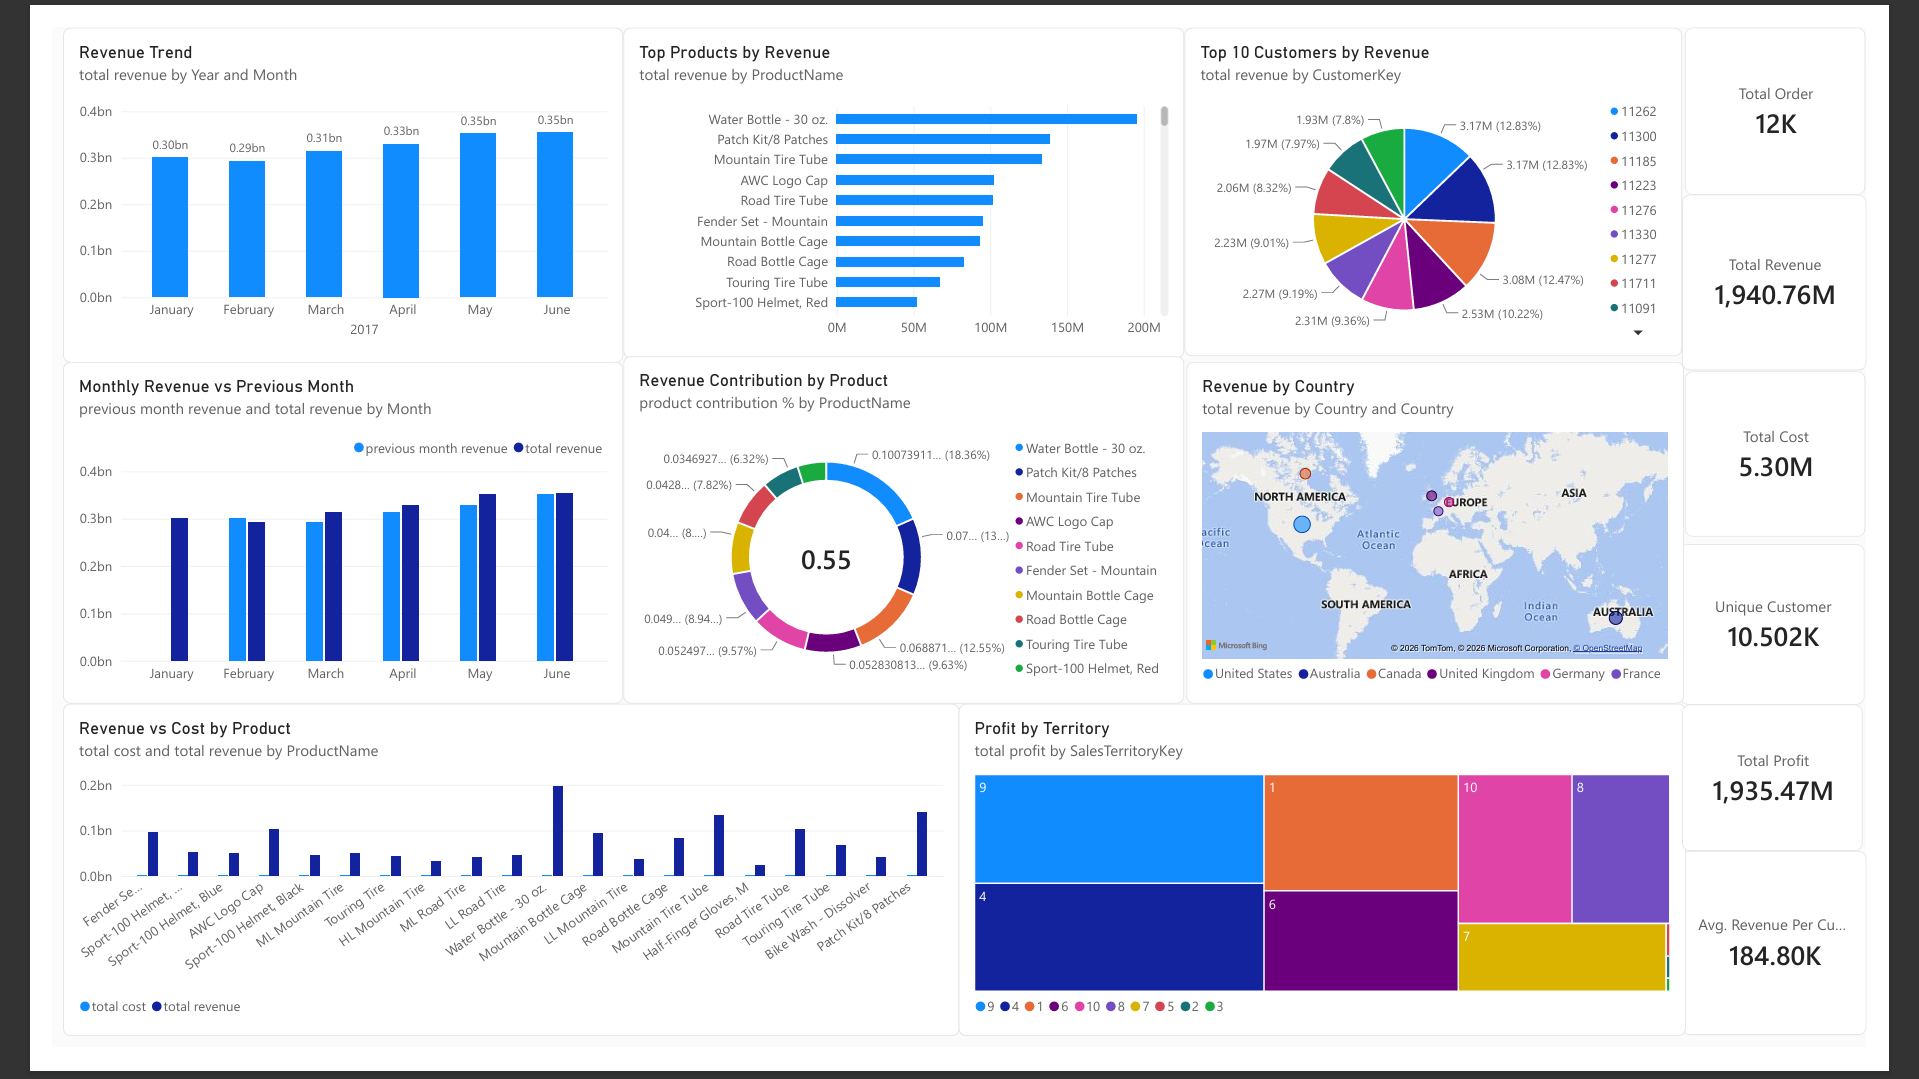

The page's visual inventory and layout, read from the dashboard file:
{"tool":"powerbi","page":{"name":"Sales Performance Dashboard","canvas":[1920,1080],"ordinal":0},"visuals":[{"type":"columnChart","title":"Revenue Trend","fields":{"Y":["AdventureWorks_Sales_2017.total revenue"],"Category":["AdventureWorks_Calendar.Date.Variation.Date Hierarchy.Year","AdventureWorks_Calendar.Date.Variation.Date Hierarchy.Month"]},"box":[10.9,0,593.6,354.7],"z":0},{"type":"lineClusteredColumnComboChart","title":"Monthly Revenue vs Previous Month","fields":{"Category":["AdventureWorks_Calendar.Date.Variation.Date Hierarchy.Month"],"Y":["AdventureWorks_Sales_2017.previous month revenue","AdventureWorks_Sales_2017.total revenue"]},"box":[10.6,354,593.5,362.5],"z":1000},{"type":"clusteredBarChart","title":"Top Products by Revenue","fields":{"Category":["AdventureWorks_Products.ProductName"],"Y":["AdventureWorks_Sales_2017.total revenue"]},"box":[604.1,0,594,350],"z":2000},{"type":"donutChart","title":"Revenue Contribution by Product","fields":{"Y":["AdventureWorks_Sales_2017.product contribution %"],"Category":["AdventureWorks_Products.ProductName"]},"box":[604.1,347.6,593.5,368.8],"z":3000},{"type":"lineClusteredColumnComboChart","title":"Revenue vs Cost by Product","fields":{"Category":["AdventureWorks_Products.ProductName"],"Y":["AdventureWorks_Sales_2017.total cost","AdventureWorks_Sales_2017.total revenue"]},"box":[10.6,716.5,949.6,351.9],"z":4000},{"type":"cardVisual","fields":{"Data":["AdventureWorks_Sales_2017.customer count"]},"box":[1722.8,546.5,195.4,170.1],"z":5000},{"type":"cardVisual","fields":{"Data":["AdventureWorks_Sales_2017.avg customer revenue"]},"box":[1724.6,872.3,195.4,195.4],"z":6000},{"type":"pieChart","title":"Top 10 Customers by Revenue","fields":{"Category":["AdventureWorks_Sales_2017.CustomerKey"],"Y":["AdventureWorks_Sales_2017.total revenue"]},"box":[1197.6,0,527.8,347.6],"z":7000},{"type":"map","title":"Revenue by Country","fields":{"Size":["AdventureWorks_Sales_2017.total revenue"],"Category":["AdventureWorks_Territories.Country"],"Series":["AdventureWorks_Territories.Country"]},"box":[1200,354,526.9,362.3],"z":8000},{"type":"treemap","title":"Profit by Territory","fields":{"Group":["AdventureWorks_Territories.SalesTerritoryKey"],"Values":["AdventureWorks_Sales_2017.total profit"]},"box":[959.2,716.3,769.8,352],"z":9000},{"type":"cardVisual","fields":{"Data":["AdventureWorks_Sales_2017.total profit"]},"box":[1724.6,716.6,191.8,155.6],"z":10000},{"type":"cardVisual","fields":{"Data":["AdventureWorks_Sales_2017.total order"]},"box":[1728.2,0,191.8,177.3],"z":11000},{"type":"cardVisual","fields":{"Data":["AdventureWorks_Sales_2017.total revenue"]},"box":[1724.6,177.3,195.4,186.4],"z":12000},{"type":"cardVisual","fields":{"Data":["AdventureWorks_Sales_2017.total cost"]},"box":[1728.2,363.7,191.8,175.5],"z":13000}]}

Visuals, with their boxes in screenshot pixels (x1, y1, x2, y2), scaled from the page's 1920x1080 canvas onto the 1919x1079 screenshot:
"Revenue Trend" columnChart: x1=11 y1=0 x2=604 y2=354
"Monthly Revenue vs Previous Month" lineClusteredColumnComboChart: x1=11 y1=354 x2=604 y2=716
"Top Products by Revenue" clusteredBarChart: x1=604 y1=0 x2=1197 y2=350
"Revenue Contribution by Product" donutChart: x1=604 y1=347 x2=1197 y2=716
"Revenue vs Cost by Product" lineClusteredColumnComboChart: x1=11 y1=716 x2=960 y2=1067
cardVisual - AdventureWorks_Sales_2017.customer count: x1=1722 y1=546 x2=1917 y2=716
cardVisual - AdventureWorks_Sales_2017.avg customer revenue: x1=1724 y1=871 x2=1918 y2=1067
"Top 10 Customers by Revenue" pieChart: x1=1197 y1=0 x2=1725 y2=347
"Revenue by Country" map: x1=1199 y1=354 x2=1726 y2=716
"Profit by Territory" treemap: x1=959 y1=716 x2=1728 y2=1067
cardVisual - AdventureWorks_Sales_2017.total profit: x1=1724 y1=716 x2=1915 y2=871
cardVisual - AdventureWorks_Sales_2017.total order: x1=1727 y1=0 x2=1918 y2=177
cardVisual - AdventureWorks_Sales_2017.total revenue: x1=1724 y1=177 x2=1918 y2=363
cardVisual - AdventureWorks_Sales_2017.total cost: x1=1727 y1=363 x2=1918 y2=539
